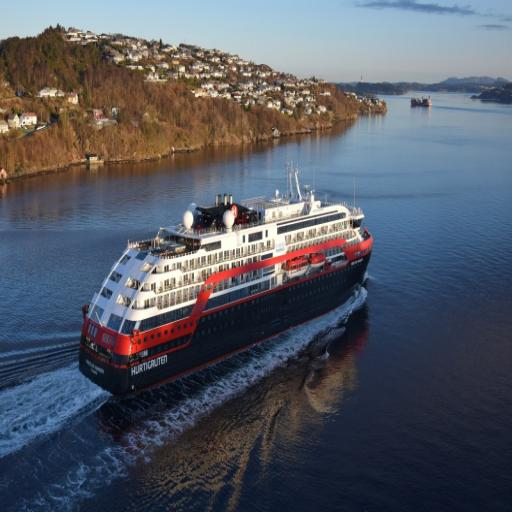cruises: (77, 169, 376, 403)
